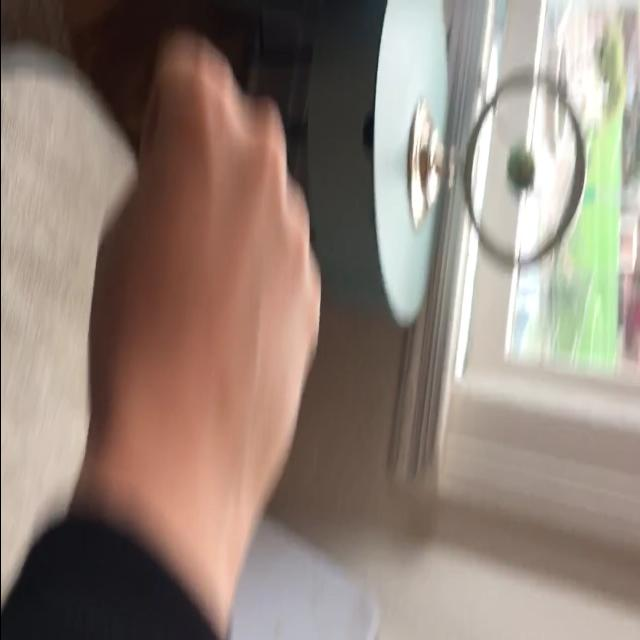Rock: (85, 34, 322, 532)
